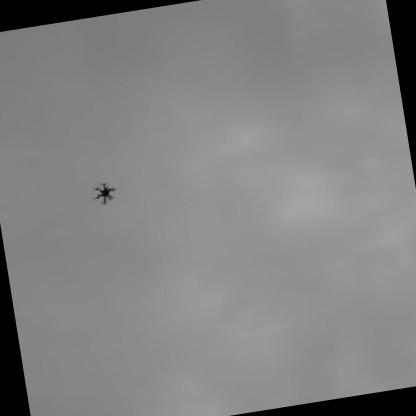drone: (83, 174, 124, 207)
